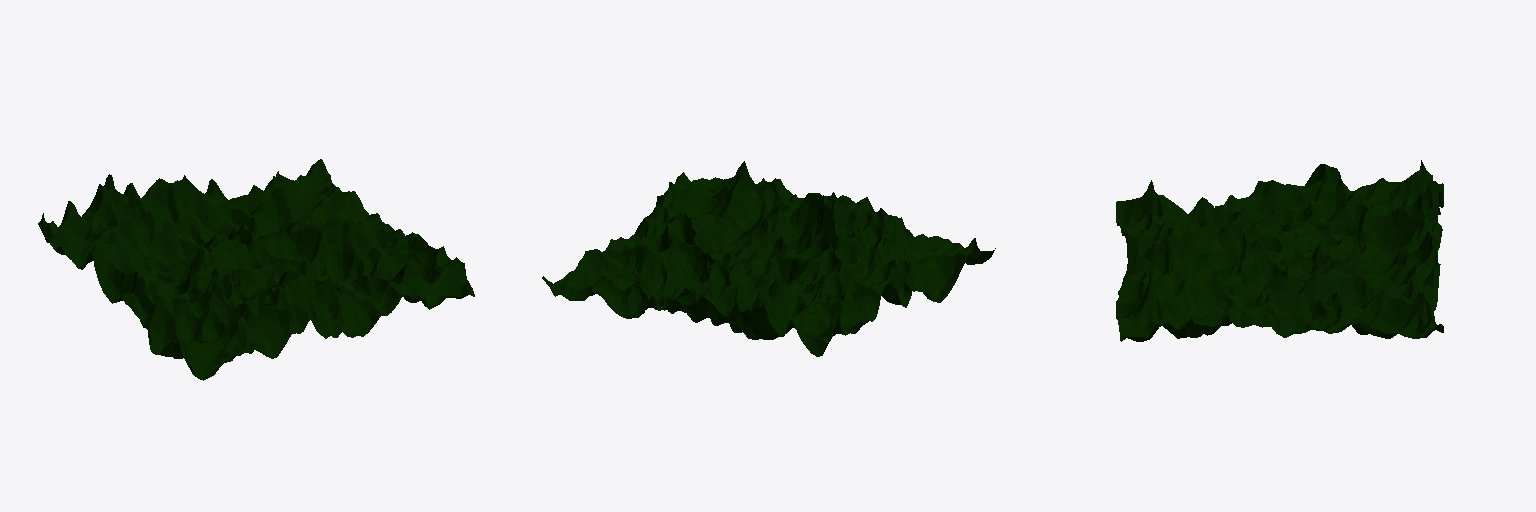
File: mars.obj
3 renders of one model, left to right at view 1: azimuth 30°, elevation 25°; view 2: azimuth 150°, elevation 25°; view 3: azimuth 270°, elevation 25°, orthographic.
Visible parts, largest first — view 1: mars; view 2: mars; view 3: mars.
Part boxes in pixels (x1,y1,x2,y2): mars: (38,159,474,380); mars: (542,161,995,356); mars: (1116,160,1443,341).
Size of the model in its own units: 628 by 174 by 608.